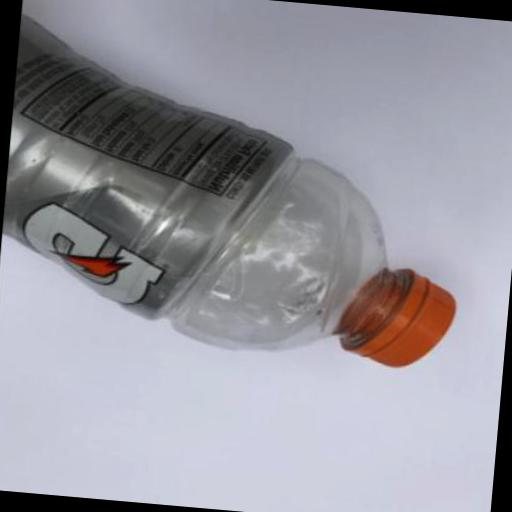plastic: (0, 14, 477, 373), (0, 15, 307, 333), (338, 264, 458, 374)
